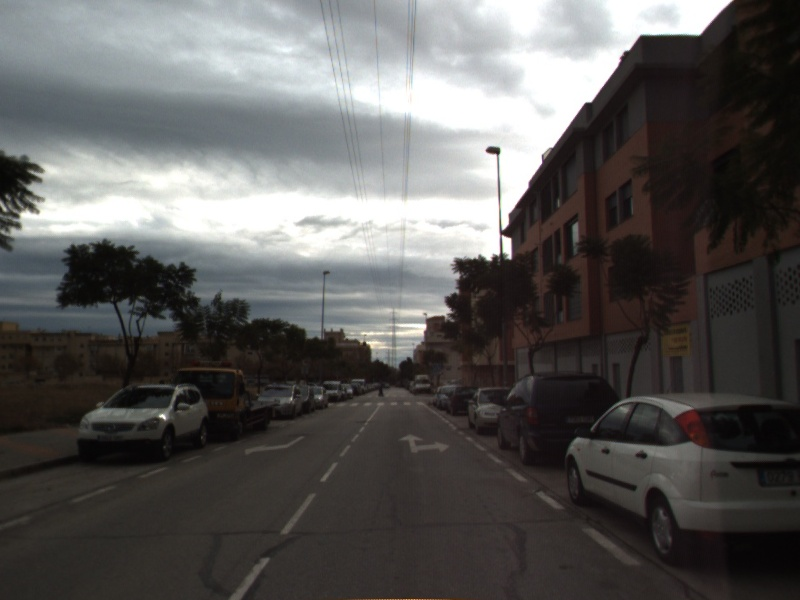STRAIGHT_RIGHT: (396, 431, 452, 455)
